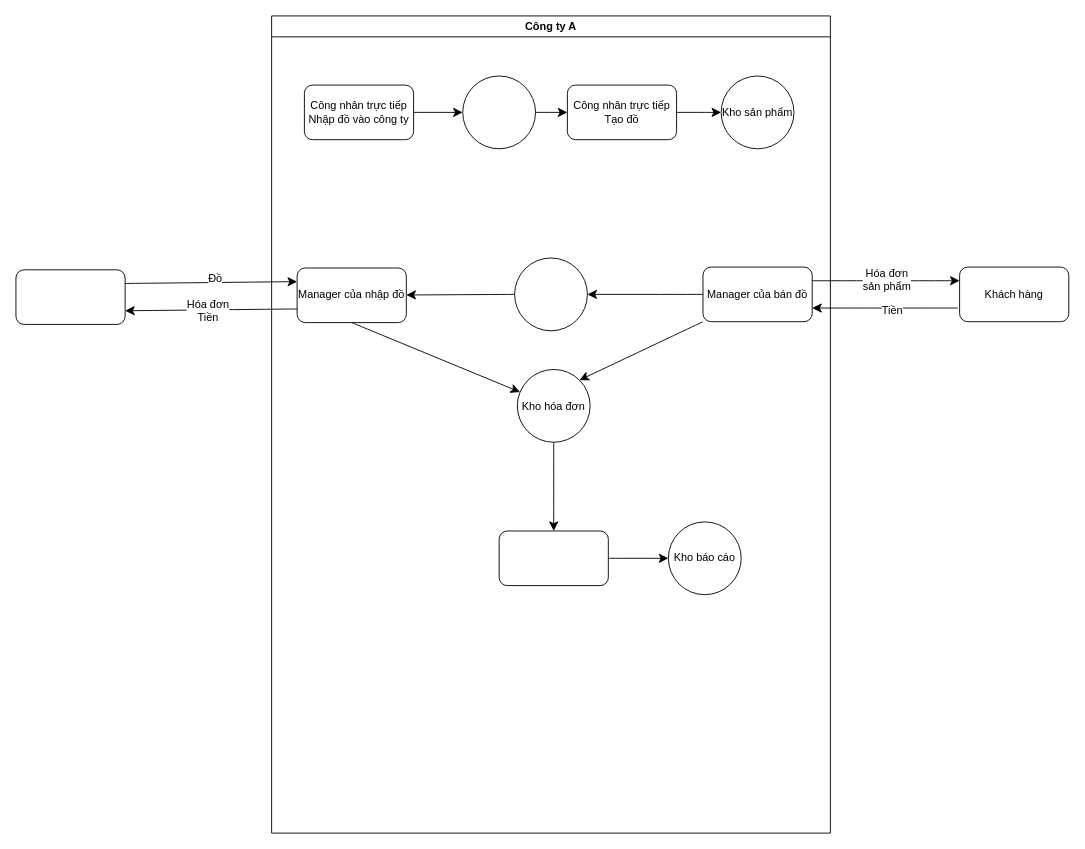
Some shapes in this 1085 by 849 pixel diagram are drawn without their labels. Each missing label, with the centre of its shape:
"Kho tiền" goes at point 550,294.
"Kho đồ" goes at point 499,112.
"Nhà cung cấp" goes at point 70,296.
"Nhân viên kế toán" goes at point 553,558.
